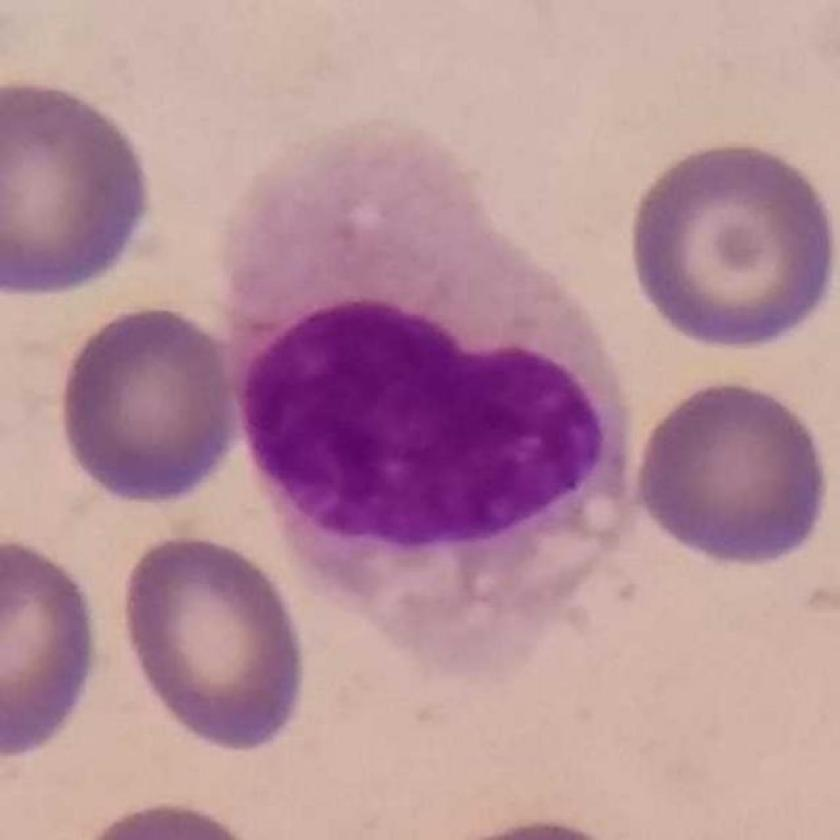monocyte: (225, 110, 647, 683)
